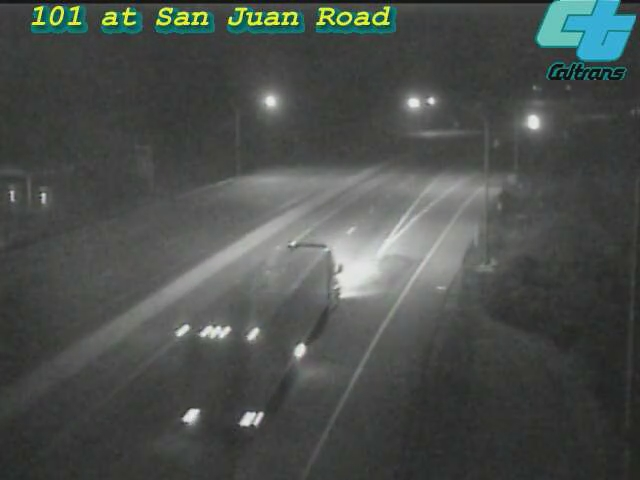vehicle: (238, 272, 318, 352), (511, 97, 561, 147)
